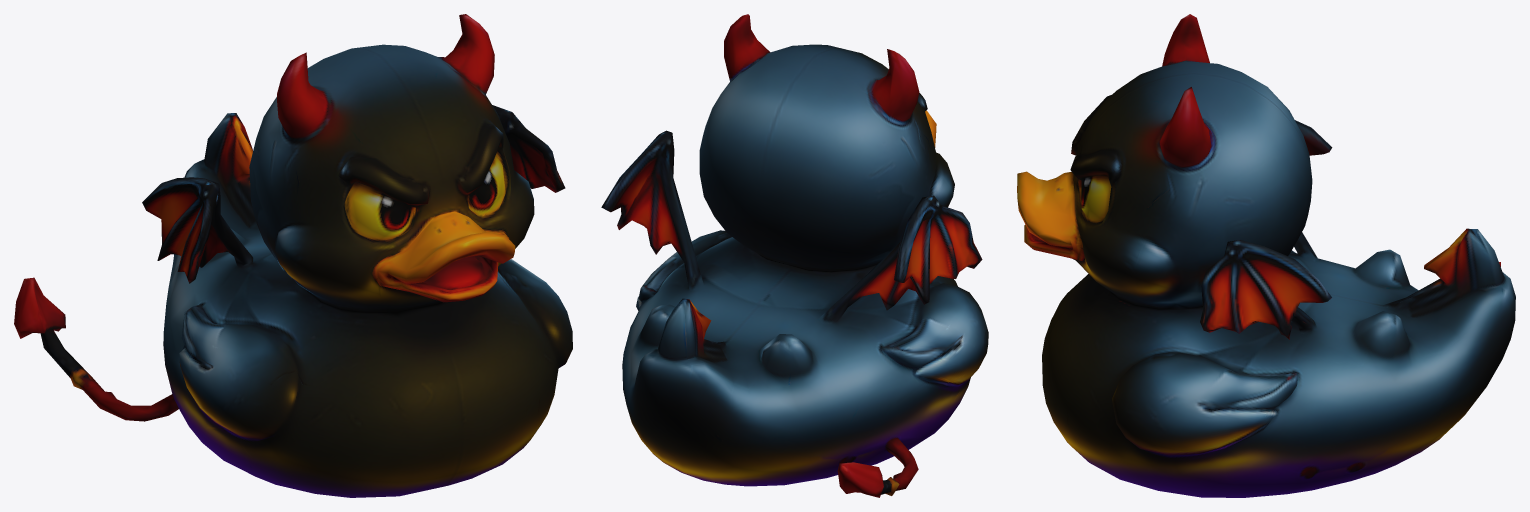
The model's file is Q_finalBoss_01.glb.
The picture shows the model from 3 angles, left to right: view 1: azimuth 30°, elevation 25°; view 2: azimuth 150°, elevation 25°; view 3: azimuth 270°, elevation 25°; orthographic projection. The views are drawn at different scales.
Parts seen in each view (by area): view 1: Prp_Oth_QuackFinalBoss01_Lod0; view 2: Prp_Oth_QuackFinalBoss01_Lod0; view 3: Prp_Oth_QuackFinalBoss01_Lod0.
Boxes of the visible parts, bbox=[...] form: Prp_Oth_QuackFinalBoss01_Lod0: bbox=[14, 14, 572, 497]; Prp_Oth_QuackFinalBoss01_Lod0: bbox=[601, 14, 988, 497]; Prp_Oth_QuackFinalBoss01_Lod0: bbox=[1017, 14, 1515, 497].
Size of the model in its own units: 0.4158 by 0.4213 by 0.4713.
1 material, 1 textured.
